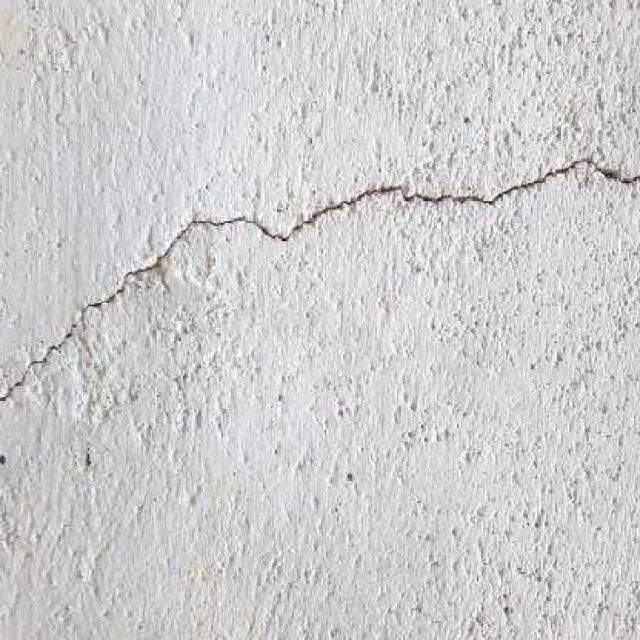D00: (0, 160, 640, 401)
